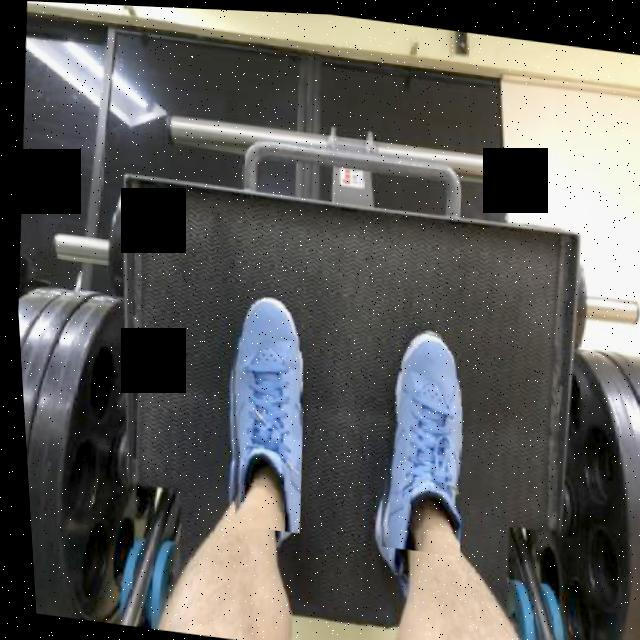shoe: (356, 319, 472, 553), (207, 289, 313, 532)
